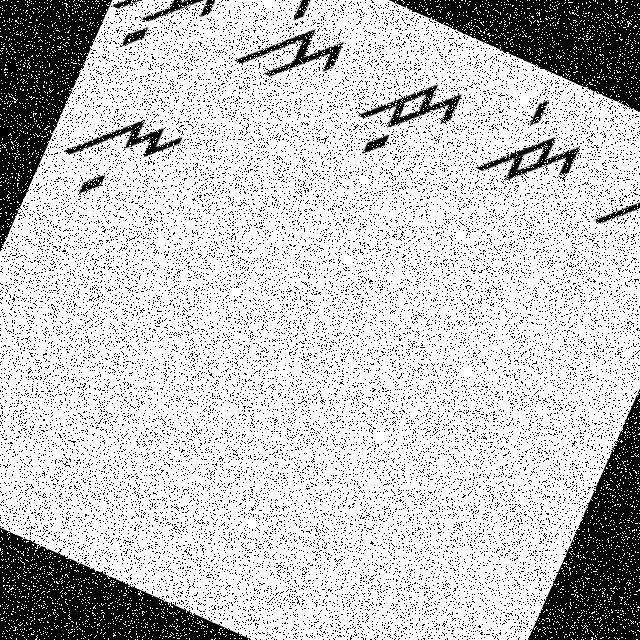je: (463, 77, 600, 214)
ju: (336, 52, 470, 188)
nya: (582, 146, 639, 275)
nyu: (46, 73, 196, 228)
se: (225, 0, 362, 111)
su: (99, 0, 230, 76)
